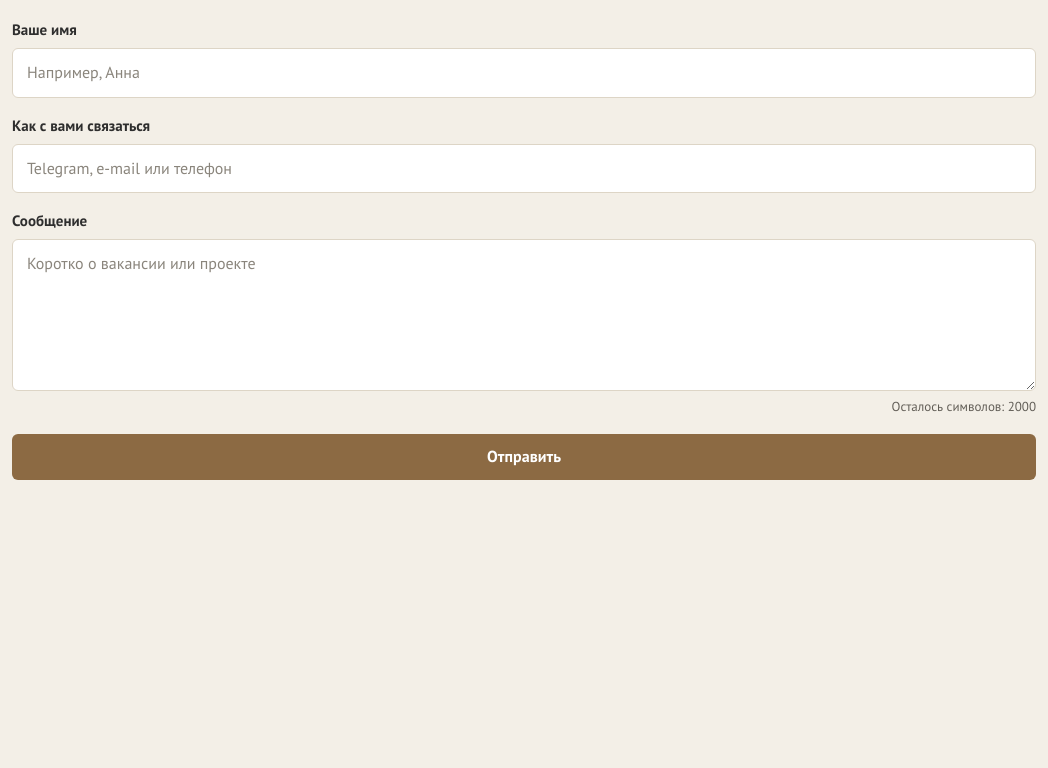
it: ContactForm › сообщает об ошибке сети и сохраняет введённое
Type "Анна" into the field labelled "Ваше имя". click: (524, 73)
box: [12,48,1036,98]
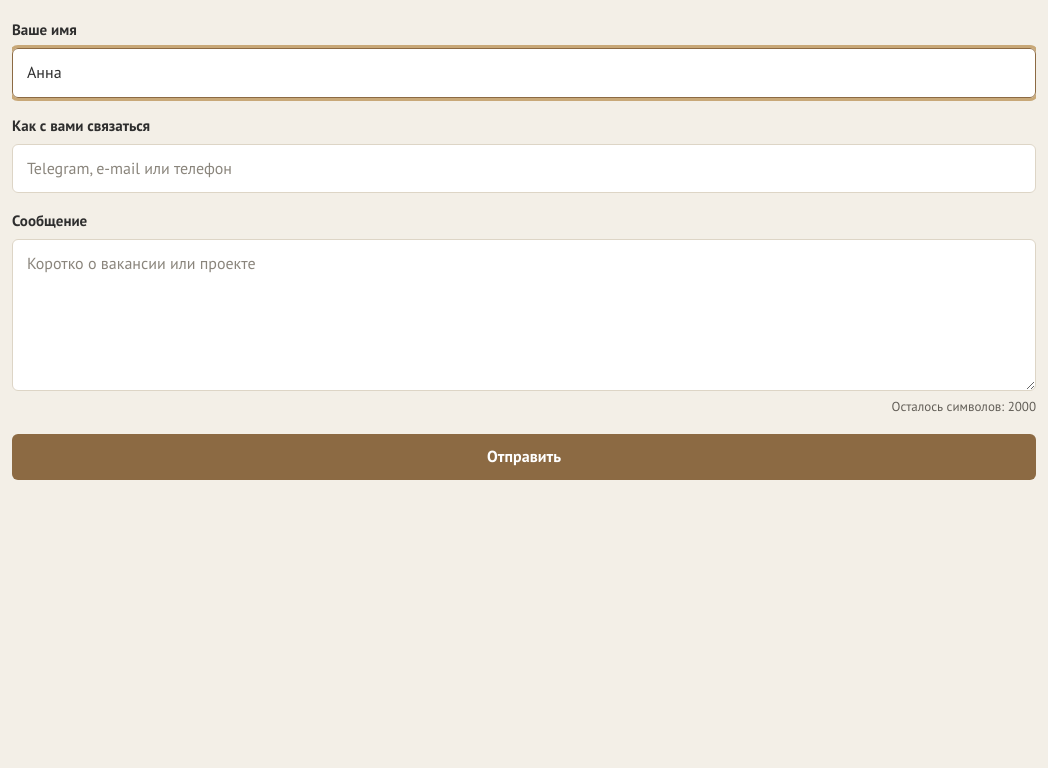
Type "@anna_hr" into the field labelled "Как с вами связаться". click: (524, 168)
box: [12,144,1036,193]
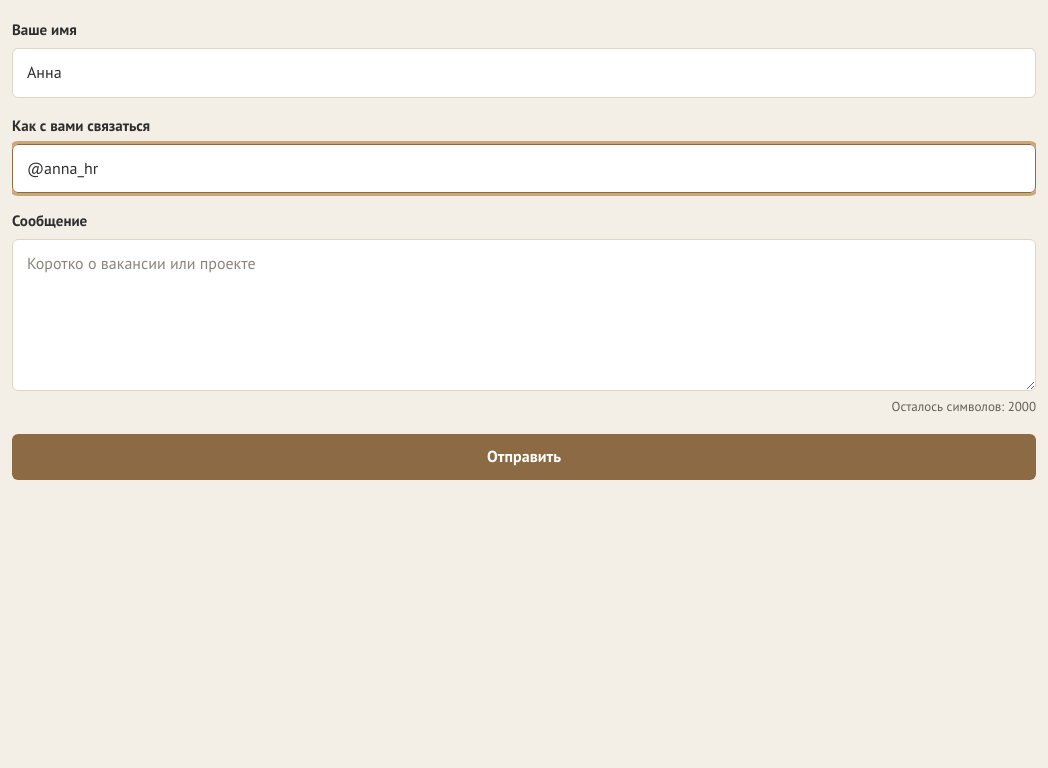
Type "Есть вакансия" into the text box labelled "Сообщение". click: (524, 315)
box: [12,239,1036,391]
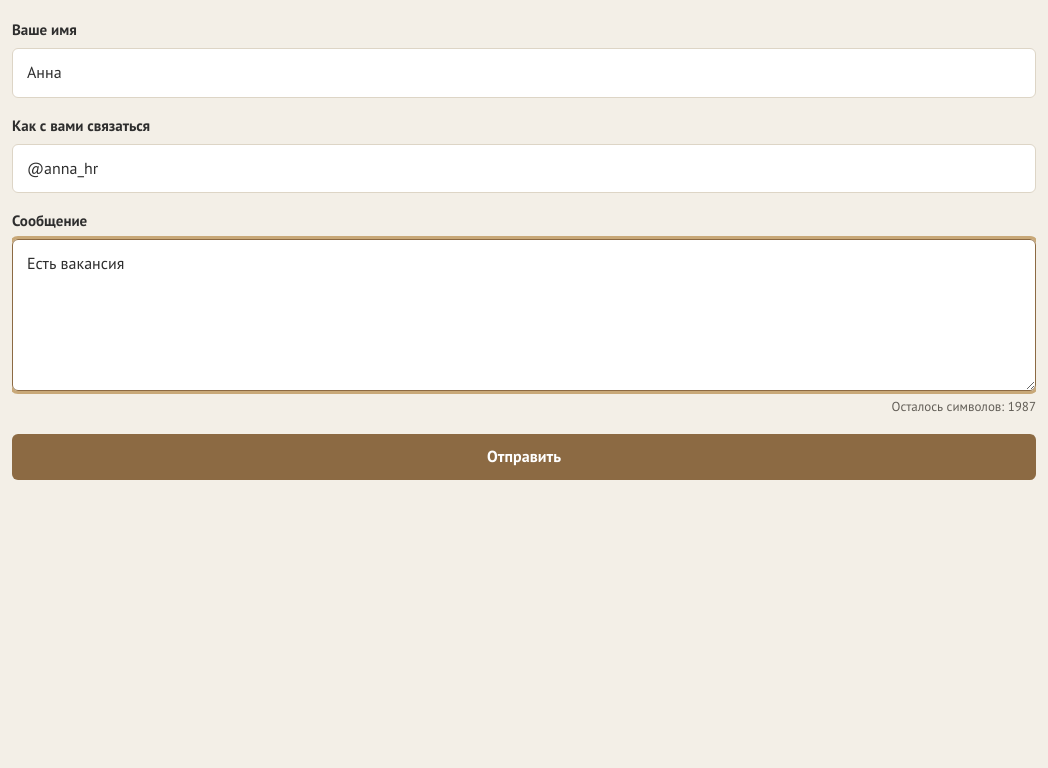
Click the button "Отправить". click: (524, 457)
box: [12,434,1036,480]
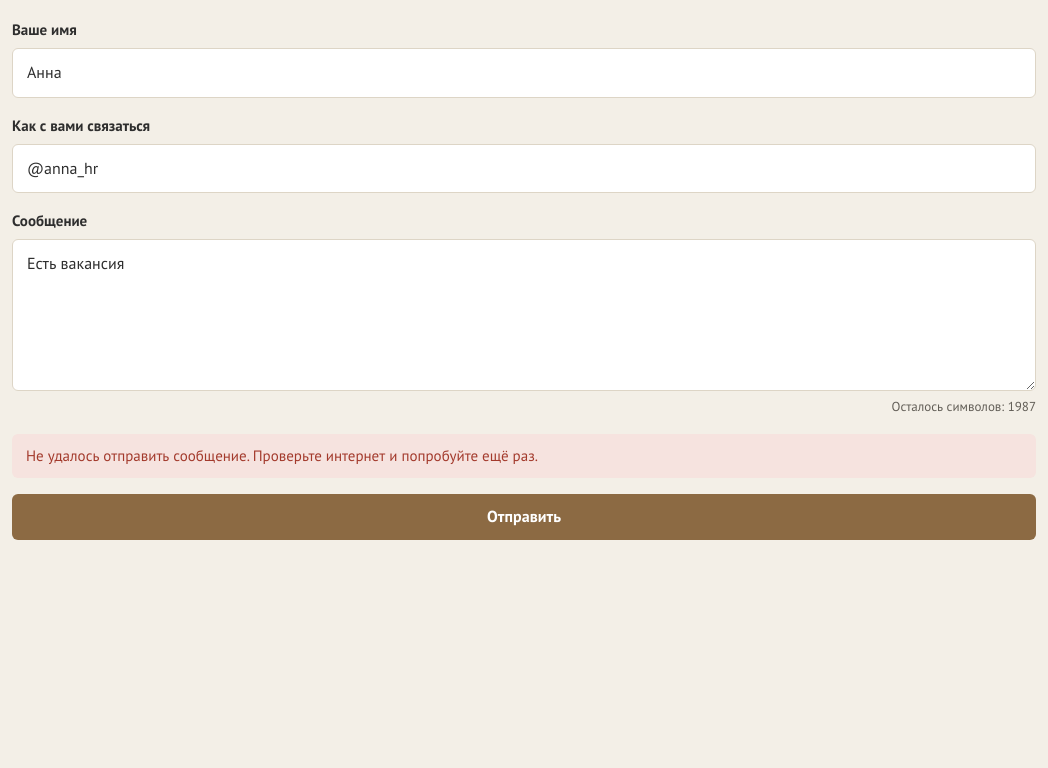
Now the message shows "Не удалось отправить сообщение", box [26,446,538,465]
